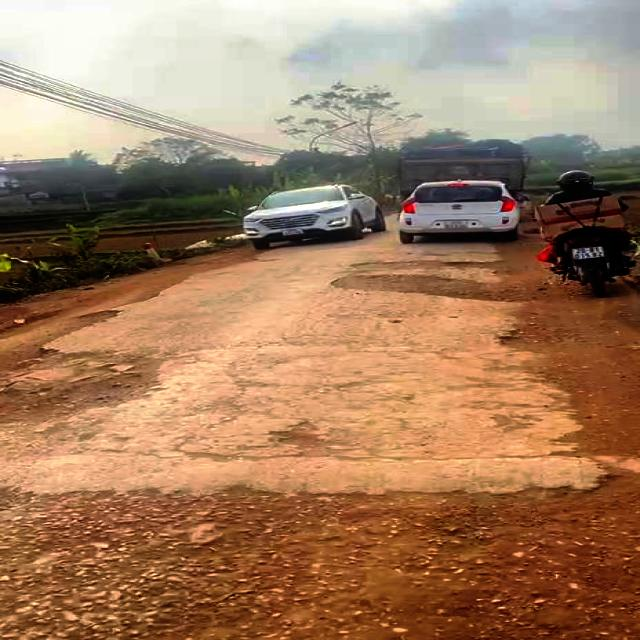pothole: (0, 307, 167, 426), (330, 256, 534, 302), (255, 420, 342, 462), (495, 321, 557, 357)
